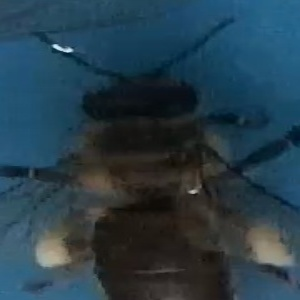bee: (17, 35, 293, 300)
